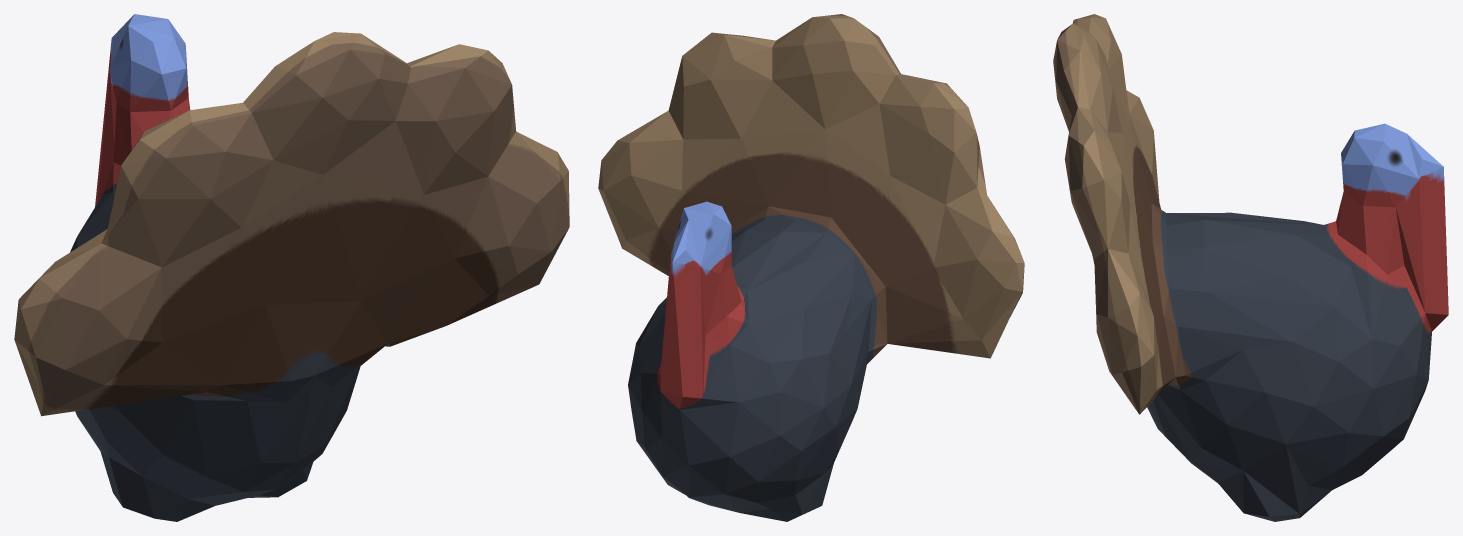
Rendered from animal_turkey_tom_blob.obj.
3 renders of one model, left to right at view 1: azimuth 30°, elevation 25°; view 2: azimuth 150°, elevation 25°; view 3: azimuth 270°, elevation 25°, orthographic. The views are drawn at different scales.
Visible parts, largest first — view 1: animal_turkey_tom_blob; view 2: animal_turkey_tom_blob; view 3: animal_turkey_tom_blob.
Part boxes in pixels (<box>): animal_turkey_tom_blob: <box>14,14,569,521</box>; animal_turkey_tom_blob: <box>598,14,1024,521</box>; animal_turkey_tom_blob: <box>1053,14,1448,521</box>.
Size of the model in its own units: 1.1 by 1.05 by 0.8046.
